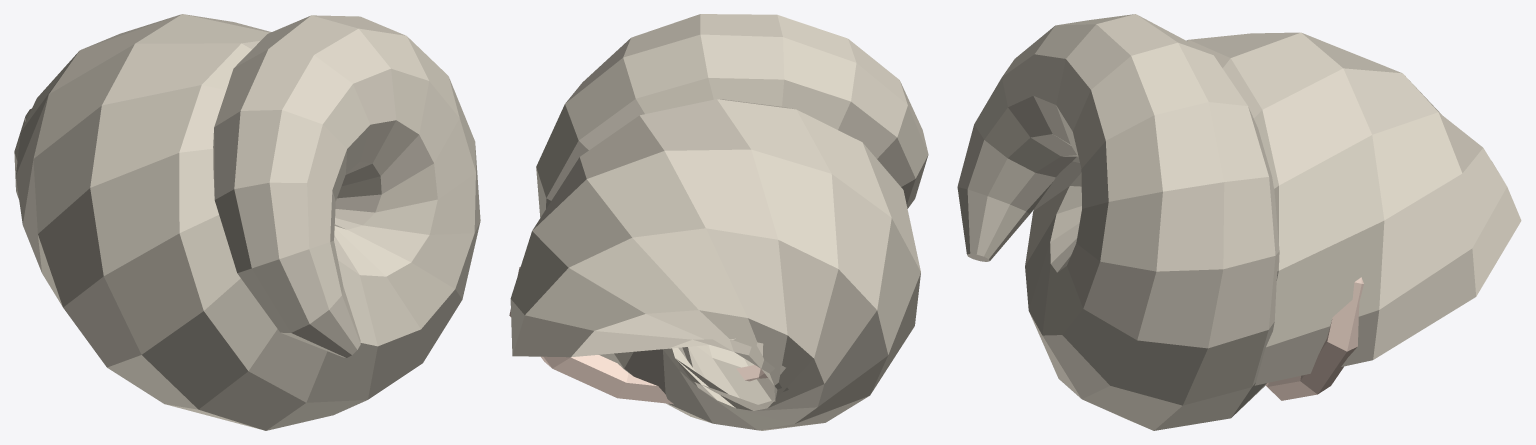
Rendered from grotto_conch_shell_LOD0_roblox.fbx.
The picture shows the model from 3 angles, left to right: view 1: azimuth 30°, elevation 25°; view 2: azimuth 150°, elevation 25°; view 3: azimuth 270°, elevation 25°; orthographic projection. The views are drawn at different scales.
Parts seen in each view (by area): view 1: conch_Shell; view 2: conch_Shell, conch_Lip; view 3: conch_Shell, conch_Lip.
Part boxes in pixels (box(x1,y1,x2,y2)): conch_Shell: box(14, 14, 480, 430); conch_Shell: box(510, 14, 928, 430); conch_Lip: box(509, 267, 767, 404); conch_Shell: box(957, 14, 1521, 430); conch_Lip: box(1265, 277, 1363, 400).
Size of the model in its own units: 0.2175 by 0.2803 by 0.2098.
